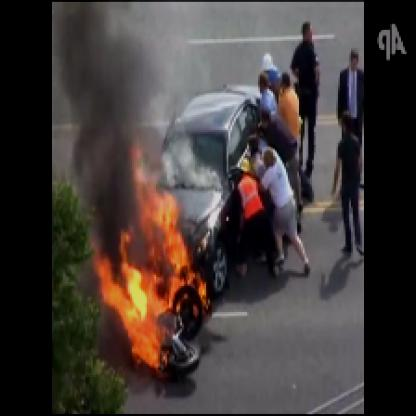Fire: (95, 145, 214, 379)
Smoke: (63, 2, 143, 228)
